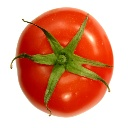tomato: (16, 7, 115, 117)
